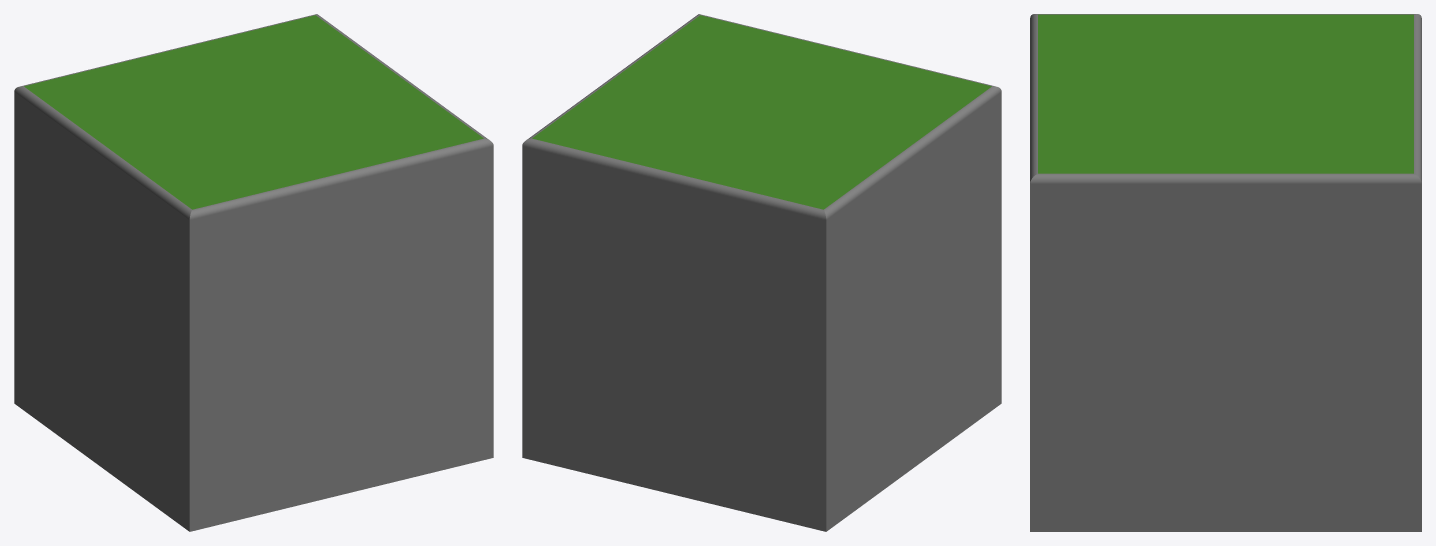
The model's file is mock_cutting_plate.dae.
3 renders of one model, left to right at view 1: azimuth 30°, elevation 25°; view 2: azimuth 150°, elevation 25°; view 3: azimuth 270°, elevation 25°, orthographic. The views are drawn at different scales.
Visible parts, largest first — view 1: ID2; view 2: ID2; view 3: ID2.
Part boxes in pixels (<box>): ID2: <box>14,14,493,531</box>; ID2: <box>522,14,1001,531</box>; ID2: <box>1030,14,1421,531</box>.
Size of the model in its own units: 0.25 by 0.25 by 0.25.
